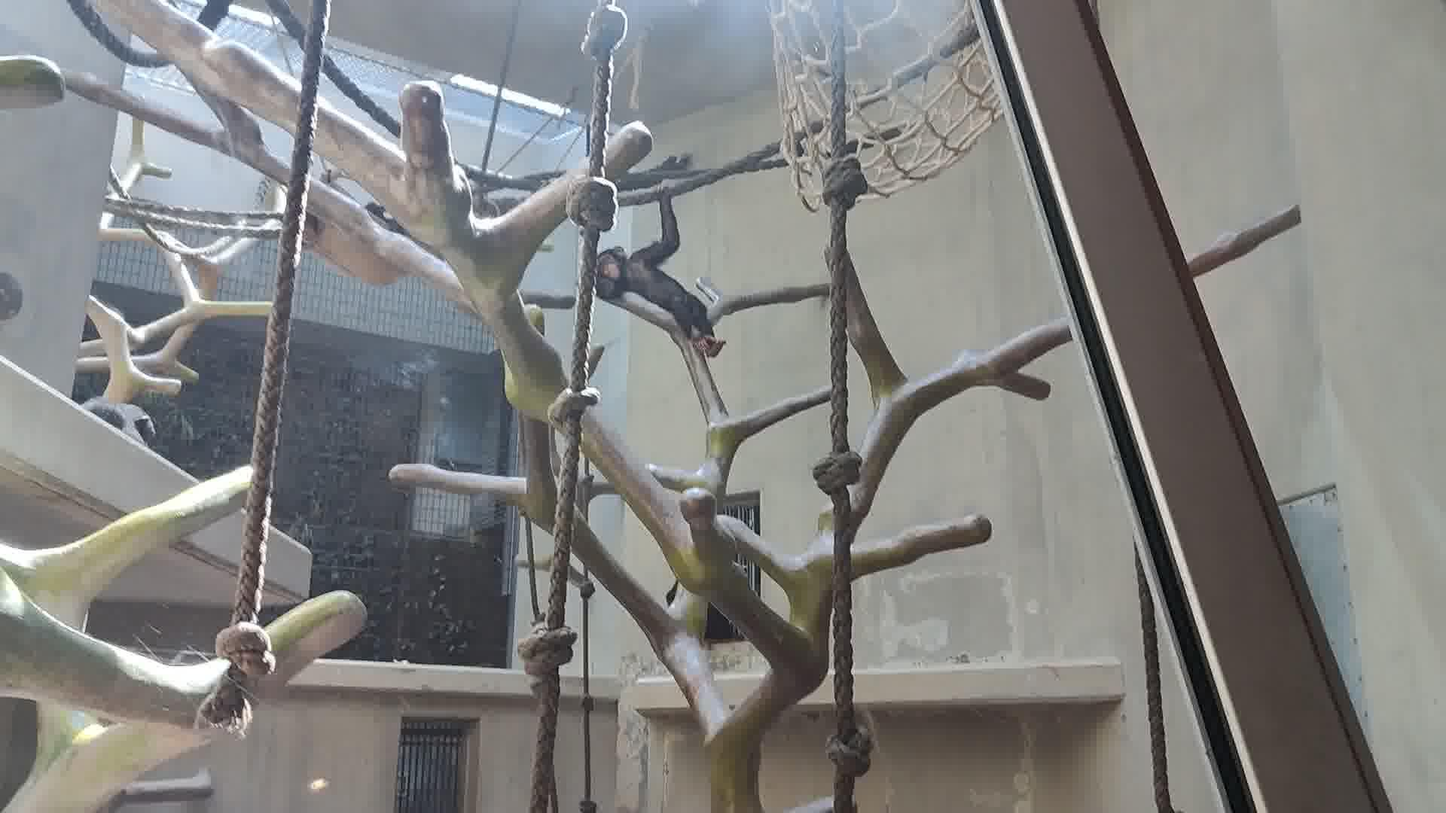boar: (595, 198, 726, 358)
